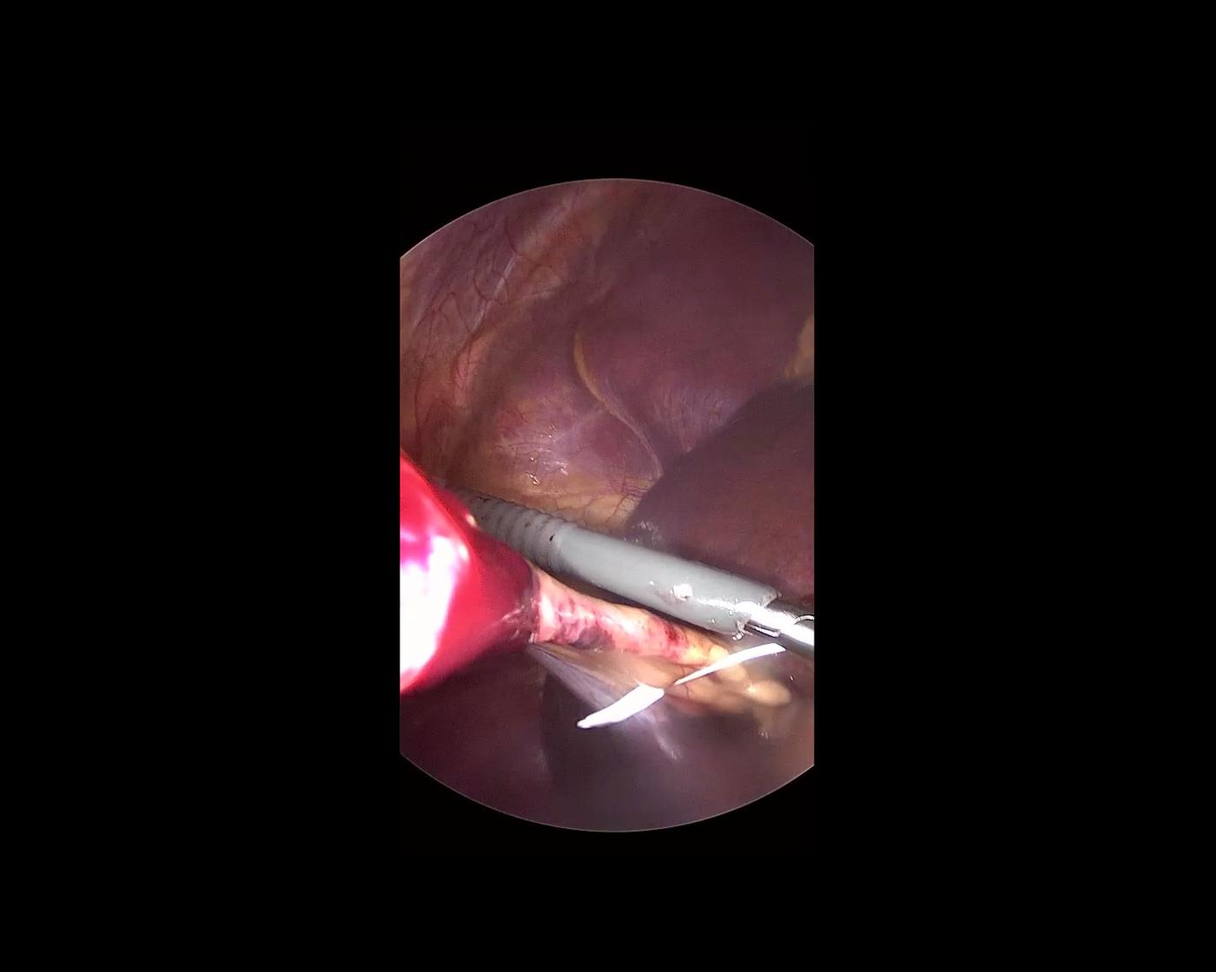Bag: (572, 630, 783, 734)
Forceps: (741, 590, 829, 661)
Liver: (515, 671, 818, 876), (615, 382, 814, 611)
